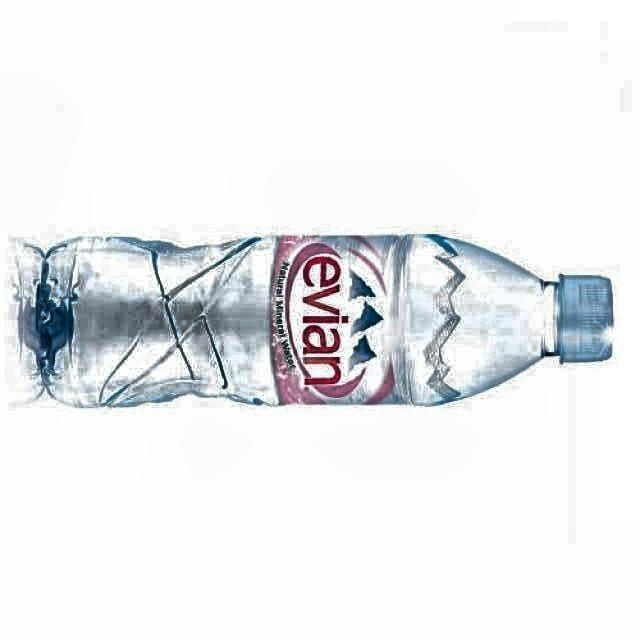plastic: (36, 234, 612, 405)
